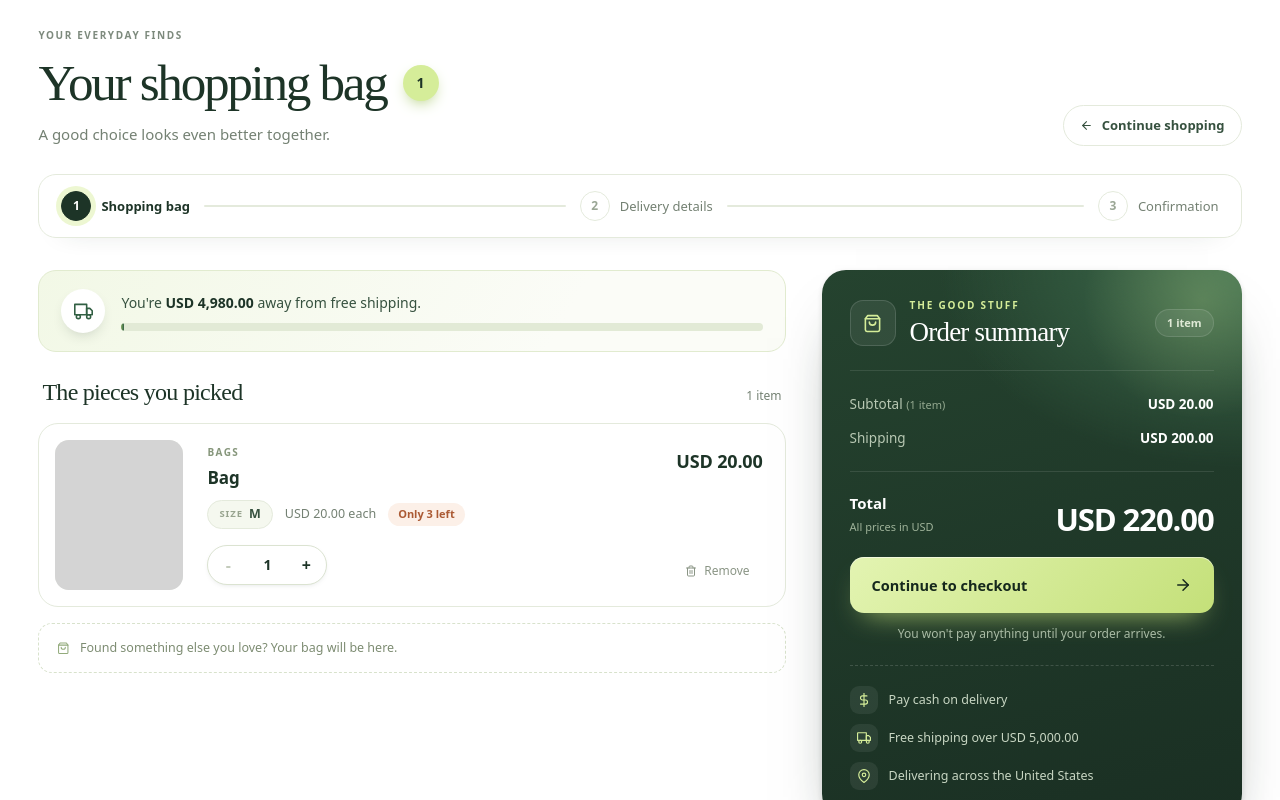
Test: quantity and removal update the actual bag and empty state
This screenshot has width=1280, height=800.
Click the button "+". click: x=306, y=565
box: [286,546,326,584]
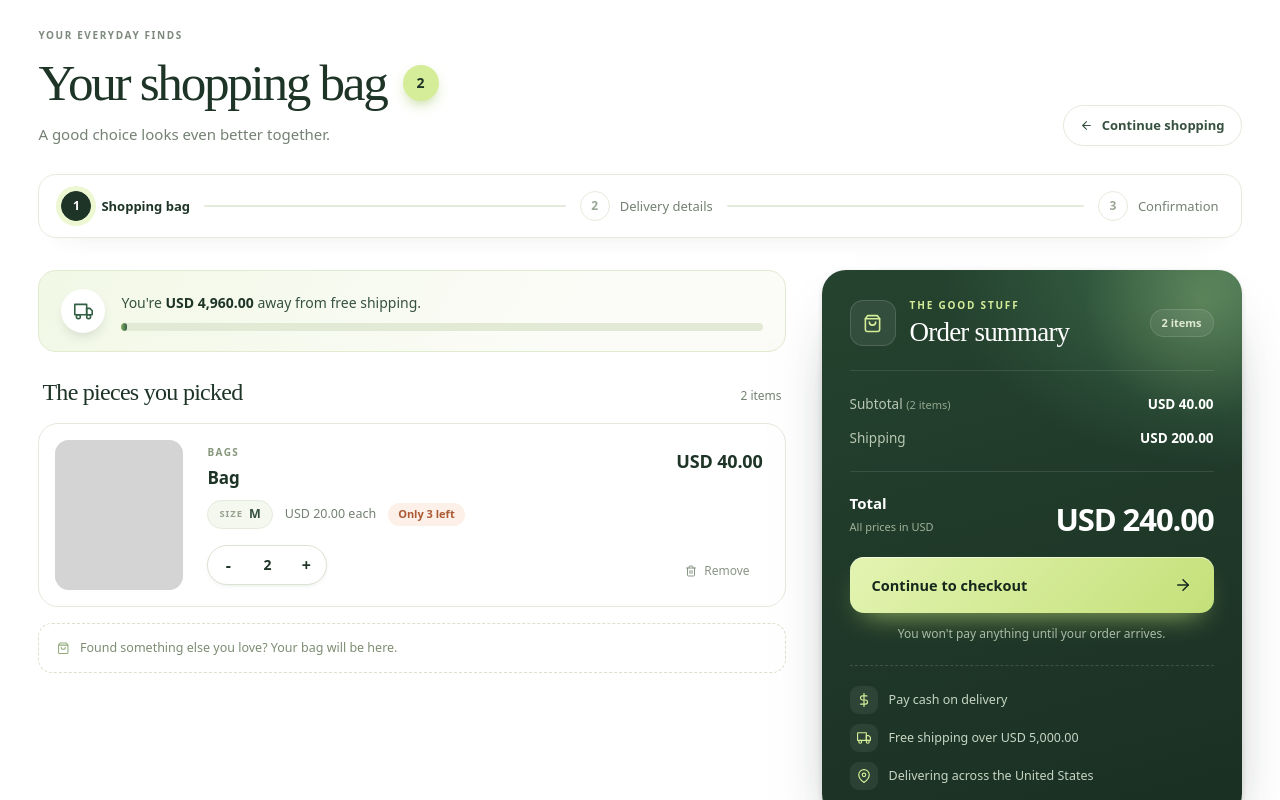
Click the button with aria-label "Remove Bag (M)". click: x=717, y=571
box: [672,554,763,588]
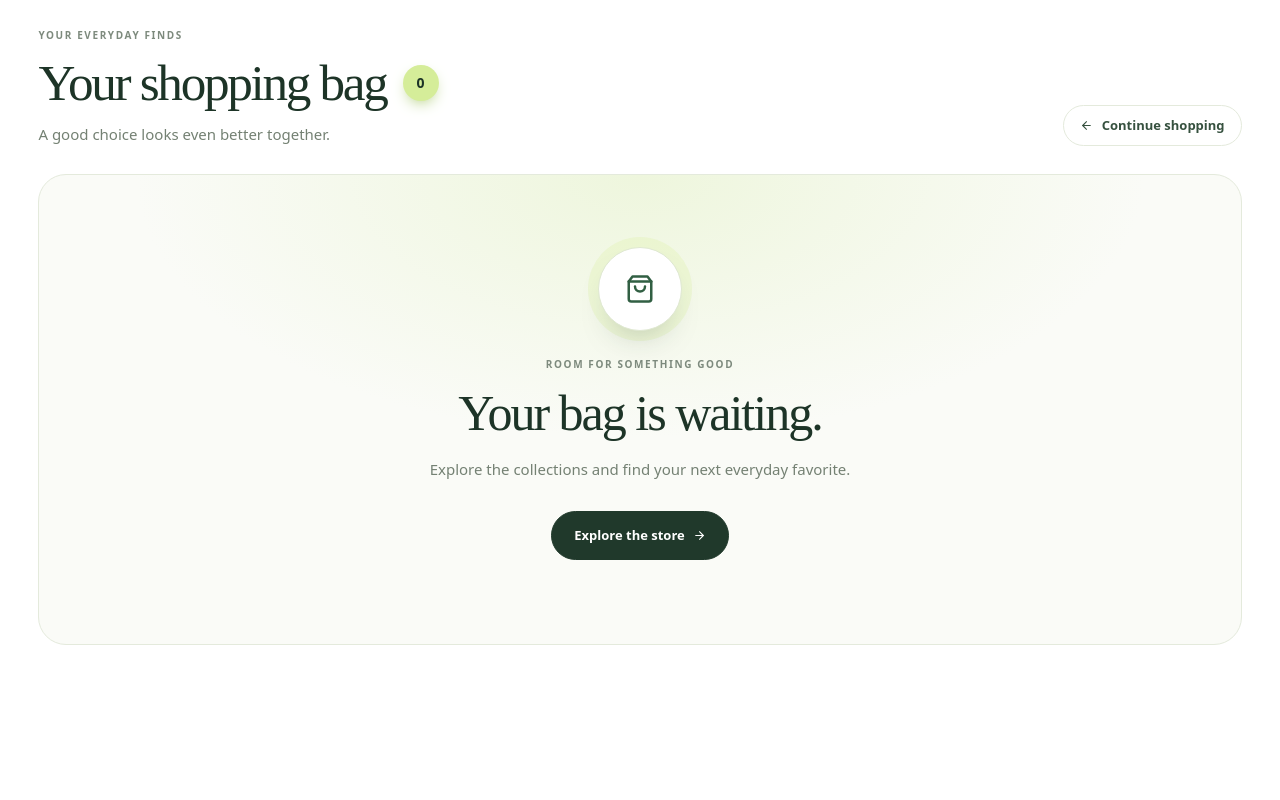
Expected: the heading "Your bag is waiting." is shown, [458,385,822,441]
